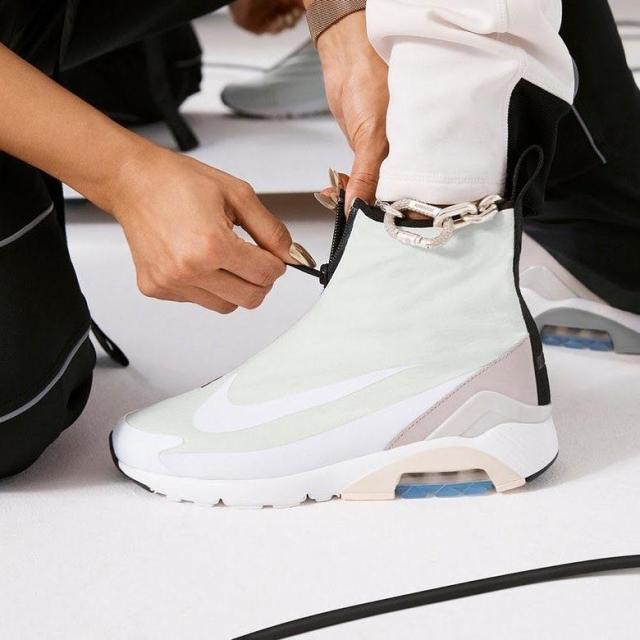shoe: (110, 180, 562, 508)
